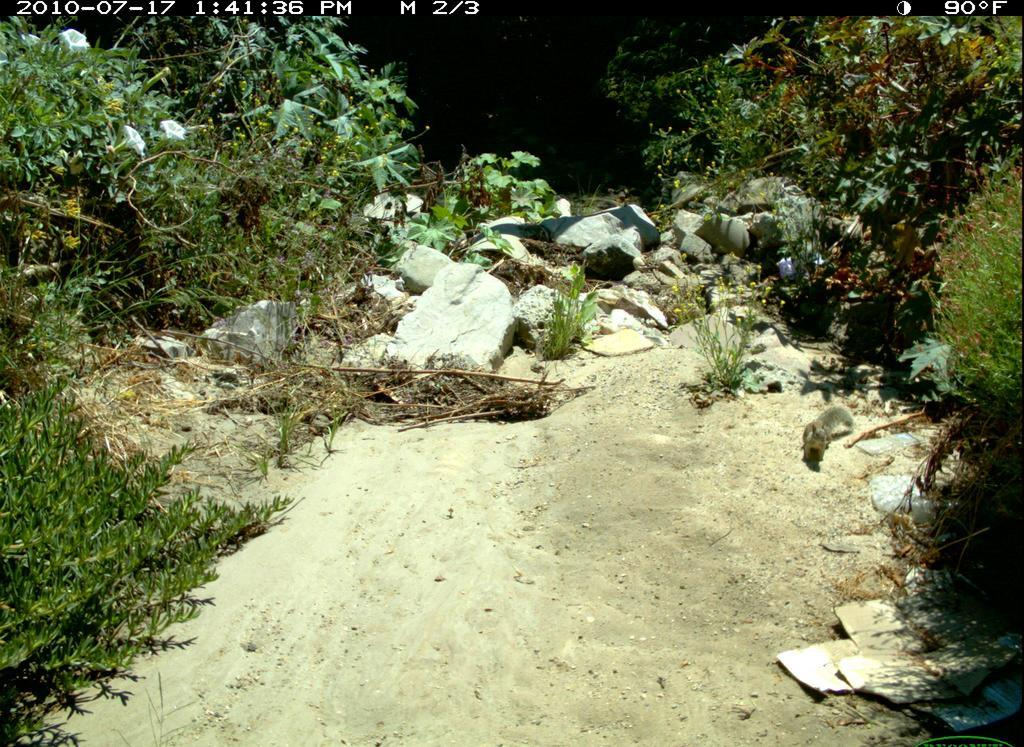squirrel: (802, 402, 858, 472)
